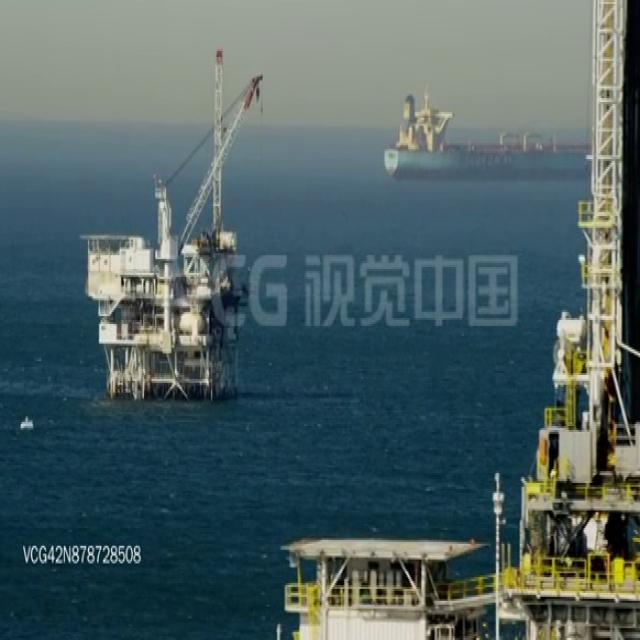cargoship: (380, 88, 592, 181)
